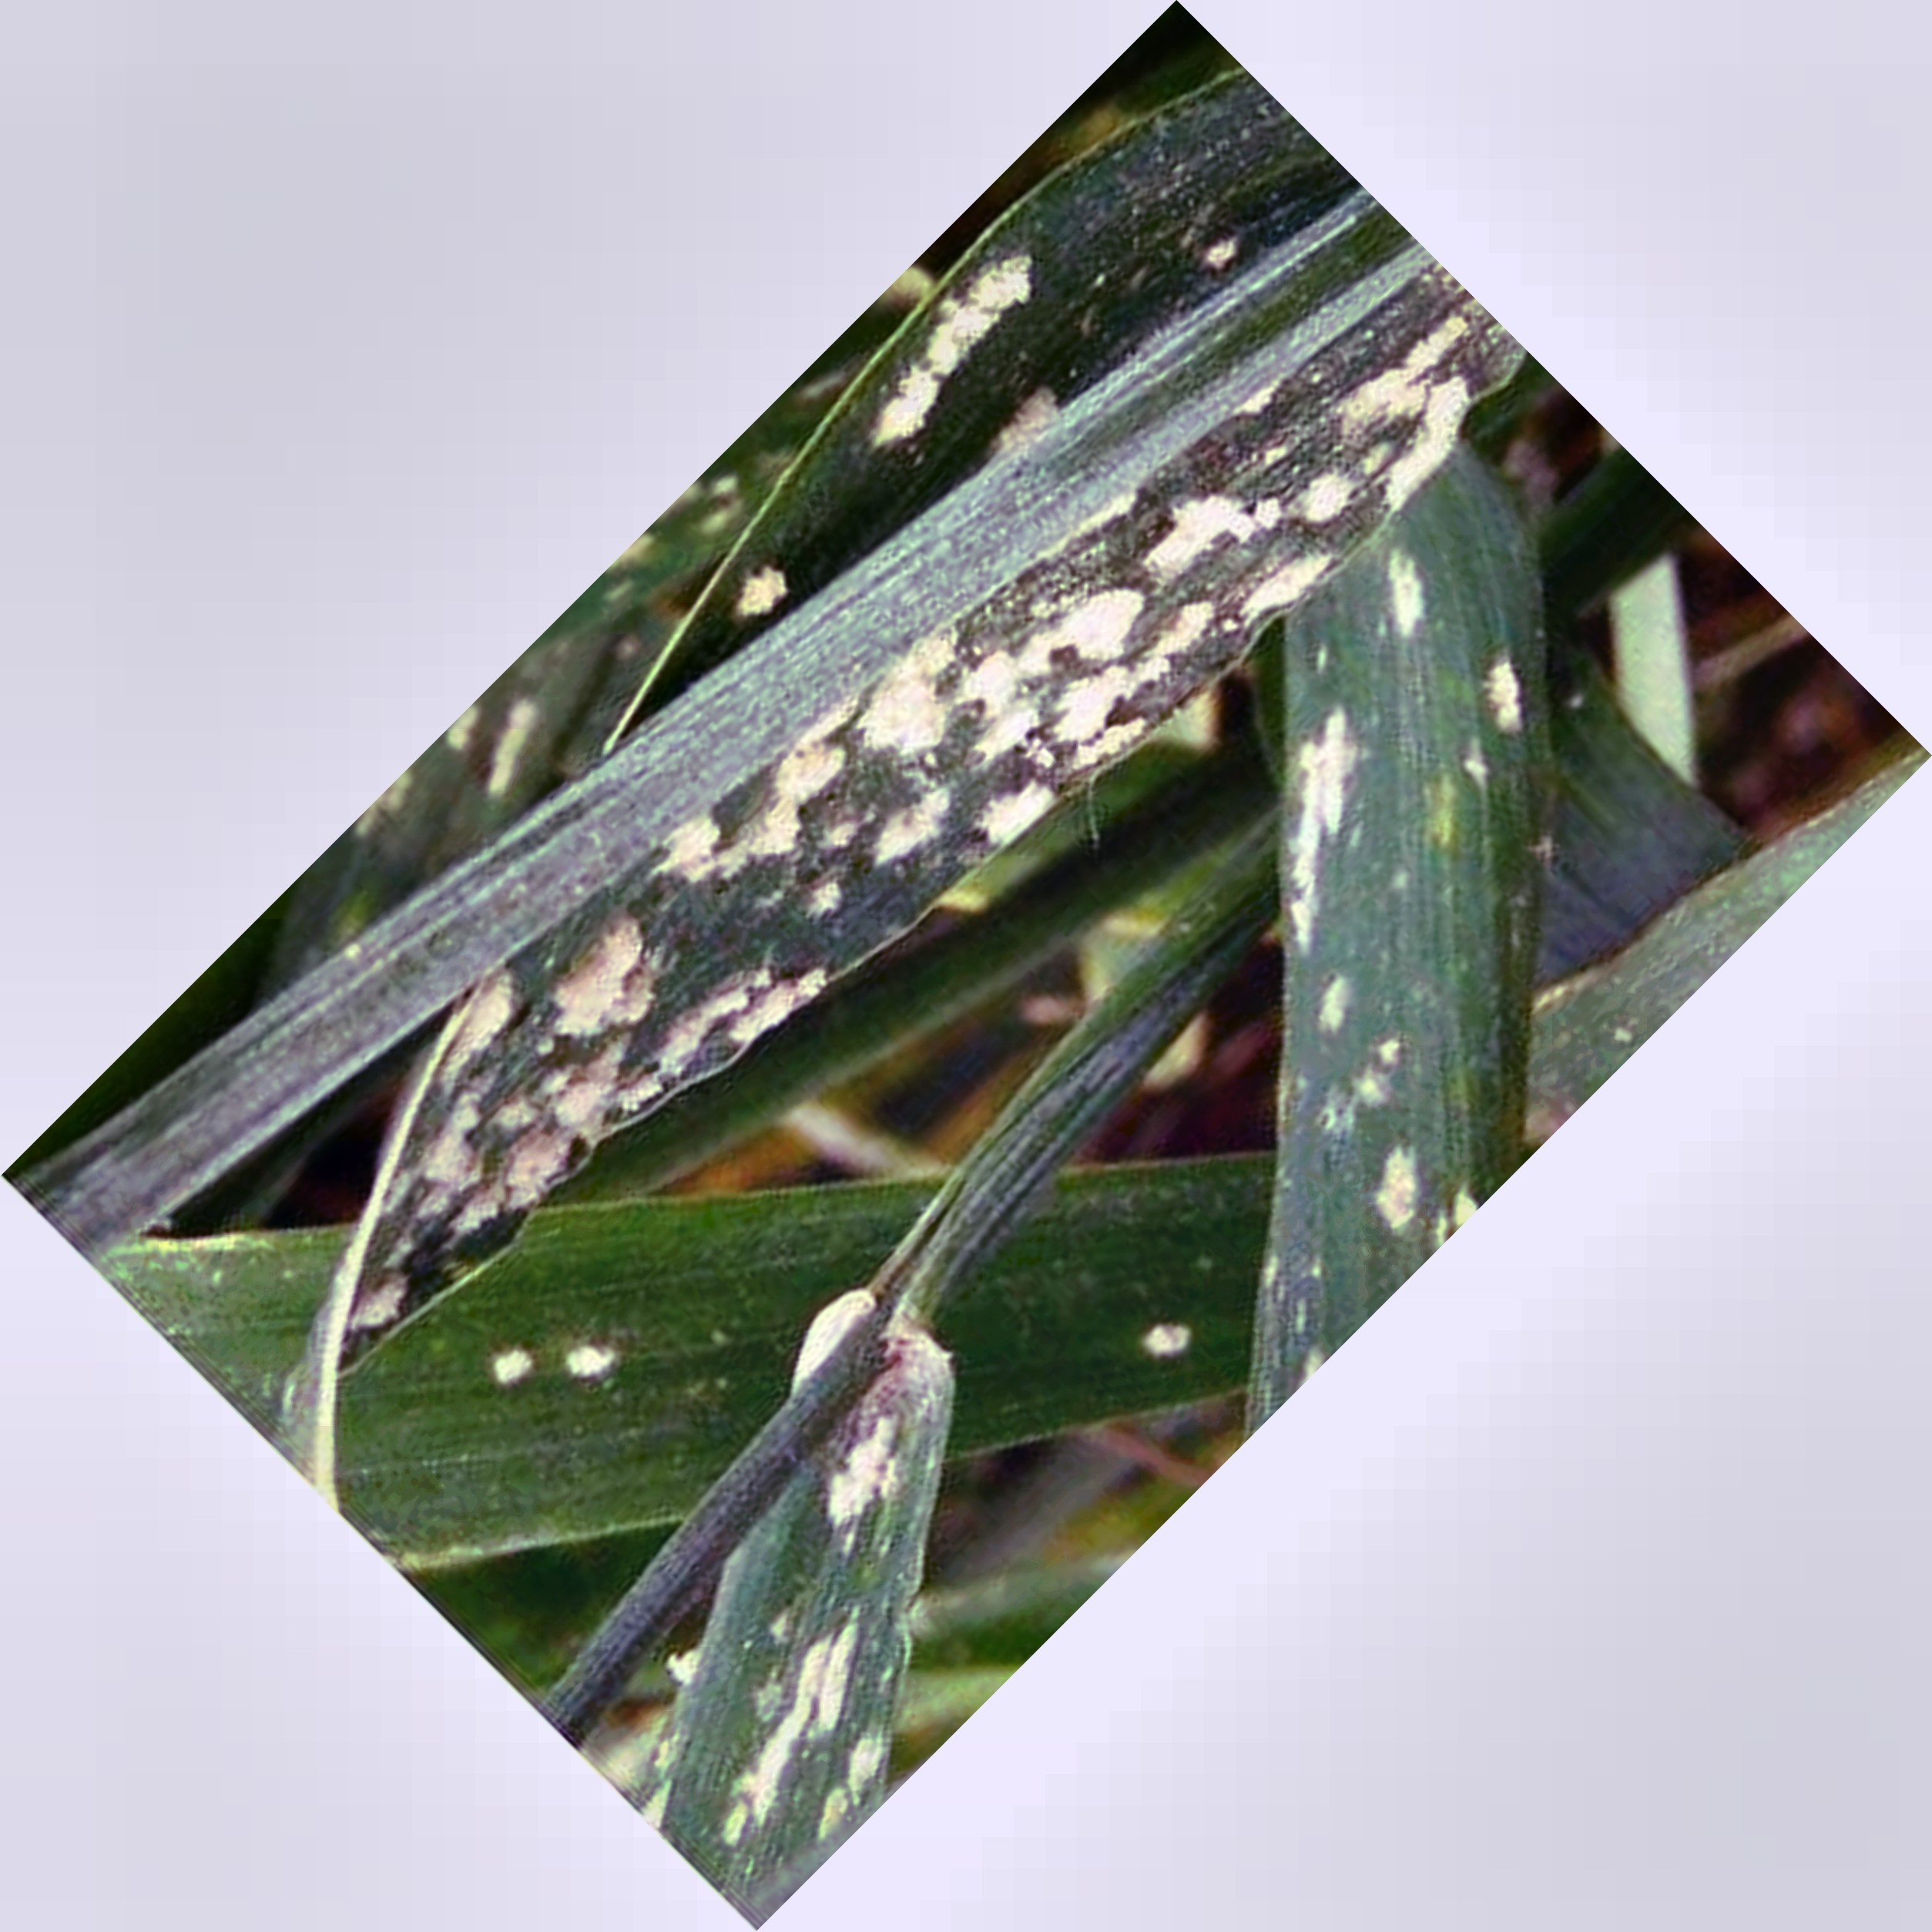Powdery Mildew: (421, 343, 1440, 1270)
